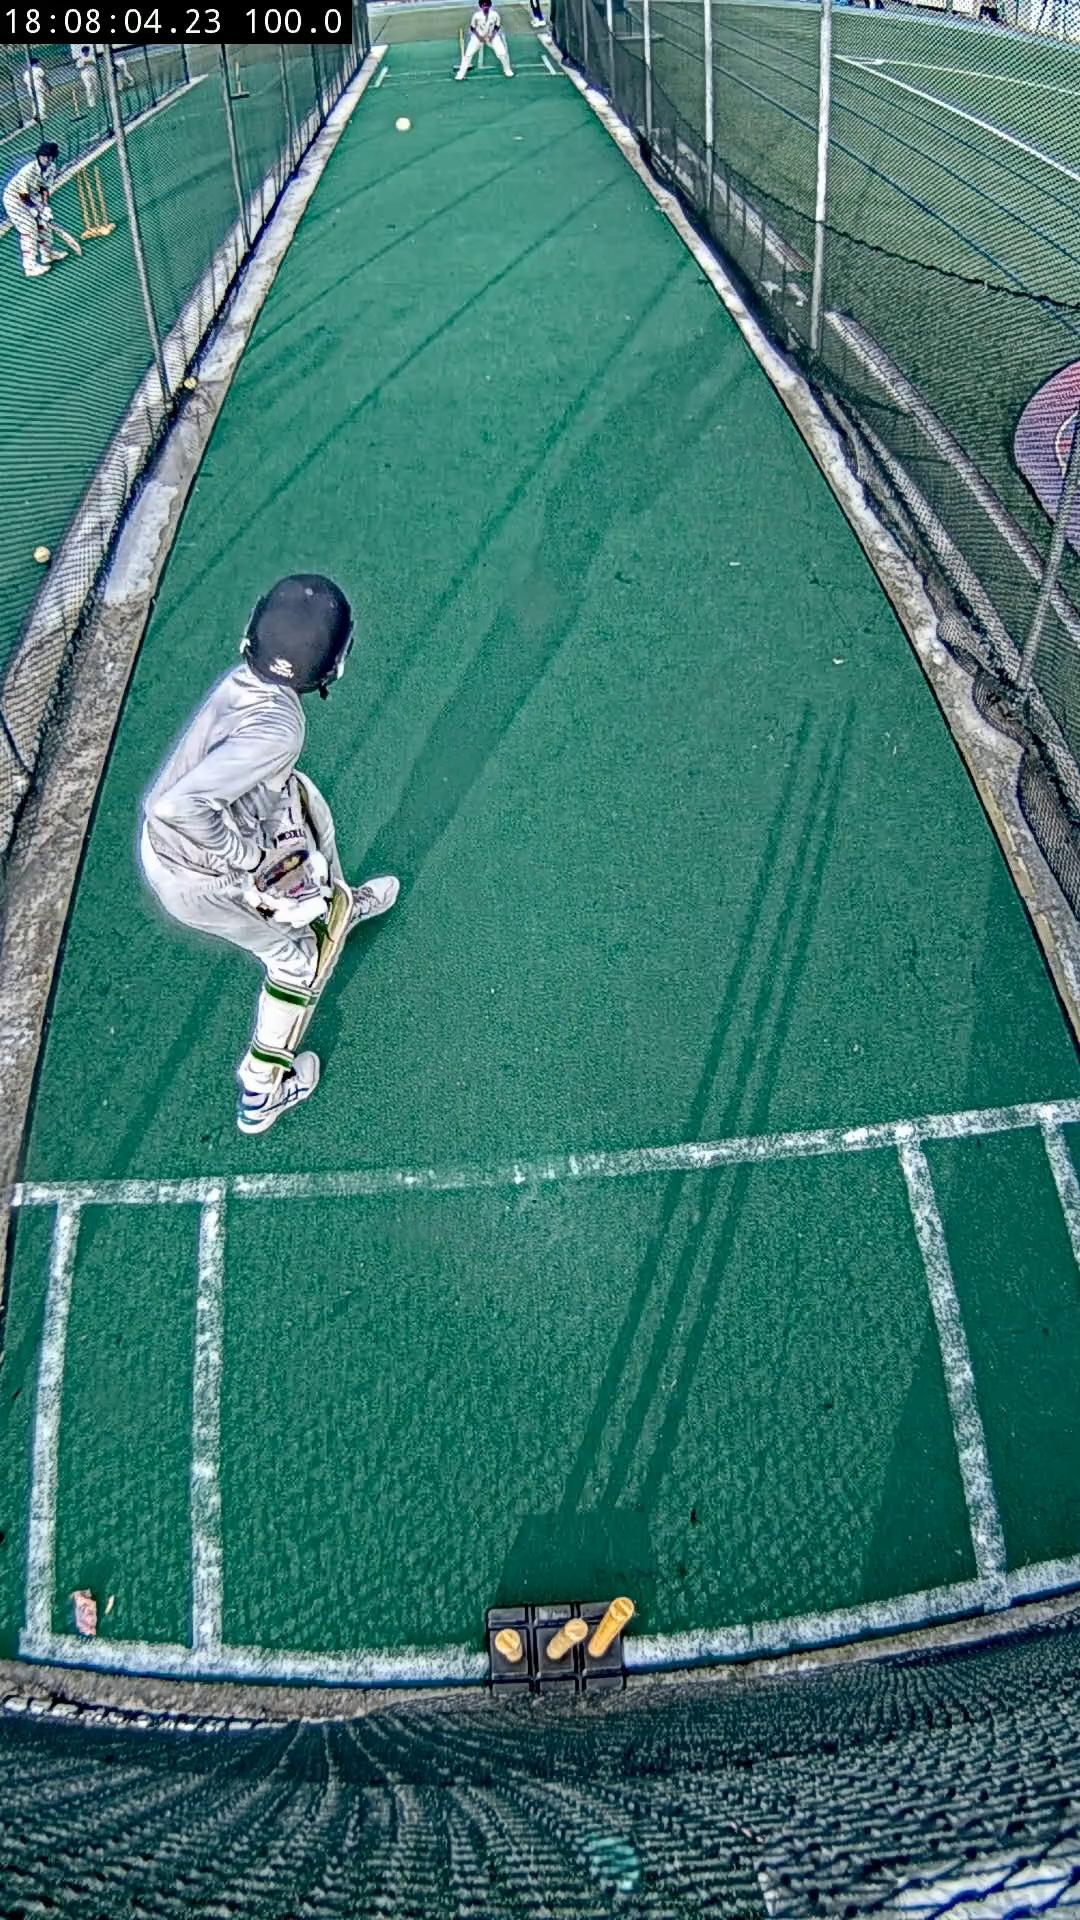ball: (394, 116, 413, 132)
bat: (258, 851, 307, 895)
gloves: (252, 831, 330, 923)
helmet: (244, 574, 352, 694)
pads: (307, 877, 360, 1005)
stumps: (488, 1597, 634, 1695)
